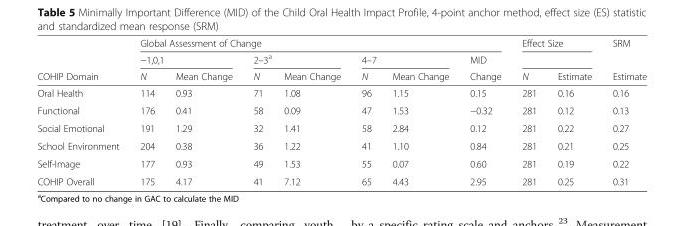table: (36, 37, 646, 186)
table column: (36, 37, 129, 186), (164, 37, 242, 186), (272, 37, 350, 186), (381, 37, 458, 186), (546, 37, 601, 186), (458, 37, 511, 186), (601, 37, 646, 186), (129, 37, 164, 186), (511, 37, 546, 186), (350, 37, 381, 186), (242, 37, 272, 186)
table column header: (36, 37, 646, 84)
table row: (36, 101, 646, 119), (36, 136, 646, 154), (36, 154, 646, 172), (36, 50, 646, 67), (36, 67, 646, 84), (36, 84, 646, 101), (36, 119, 646, 136), (36, 172, 646, 186), (36, 37, 646, 50)
table spanning cell: (129, 37, 511, 50), (36, 37, 129, 84), (601, 37, 646, 84), (129, 50, 242, 67), (546, 50, 601, 84), (242, 50, 350, 67), (350, 50, 458, 67), (458, 50, 511, 84), (511, 50, 546, 84), (511, 37, 601, 50)
